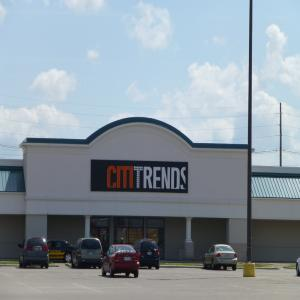Vehicle-registration-plate: (125, 257, 130, 262), (226, 255, 231, 259)
